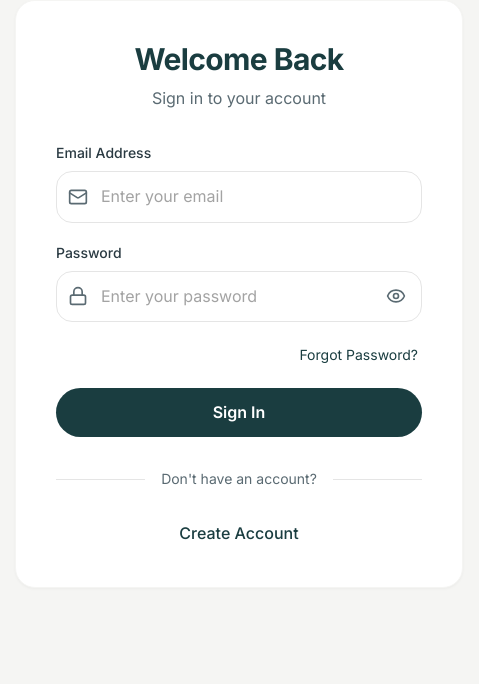
AuthForm Component › Form submission › should handle non-Error rejections gracefully
Step 1. Type "user@example.com" into the field labelled "Email Address" → (239,197), box [56,171,422,223]
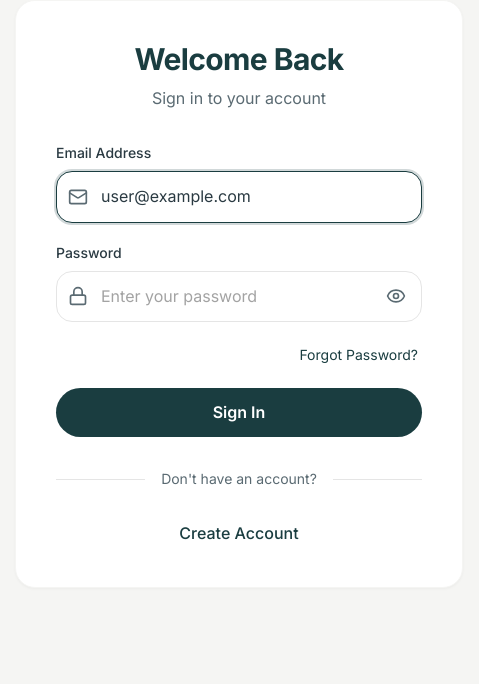
Step 2. Type "password123" into the password field labelled "Password" → (239,296), box [56,271,422,322]
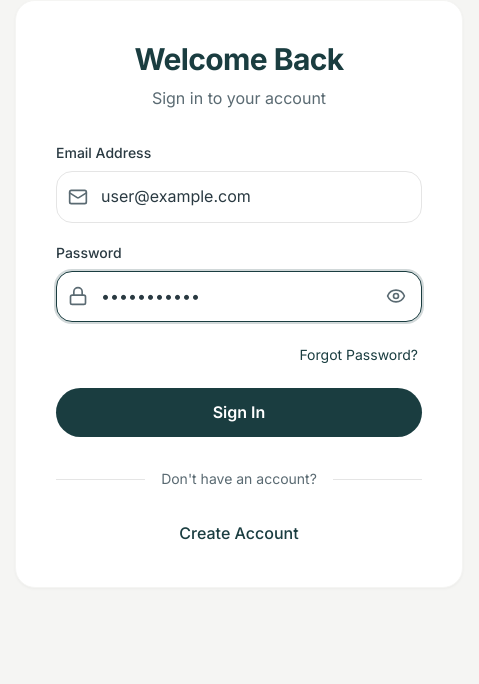
Step 3. Click the button "Sign In" → (239,413), box [56,388,422,437]
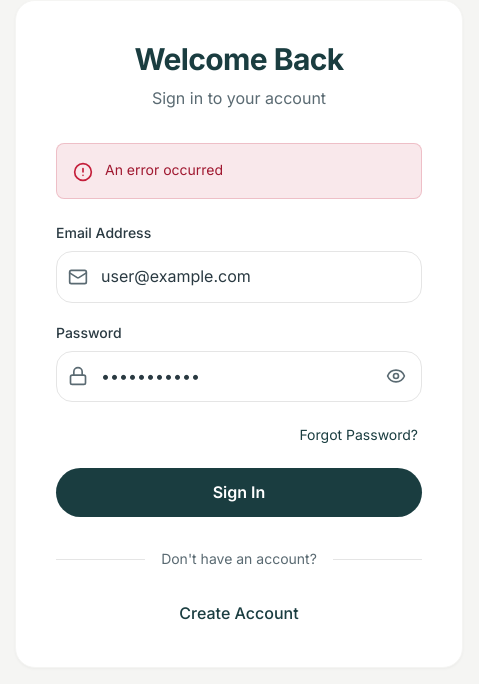
Expected: the text "An error occurred" is shown, [105,160,223,180]
